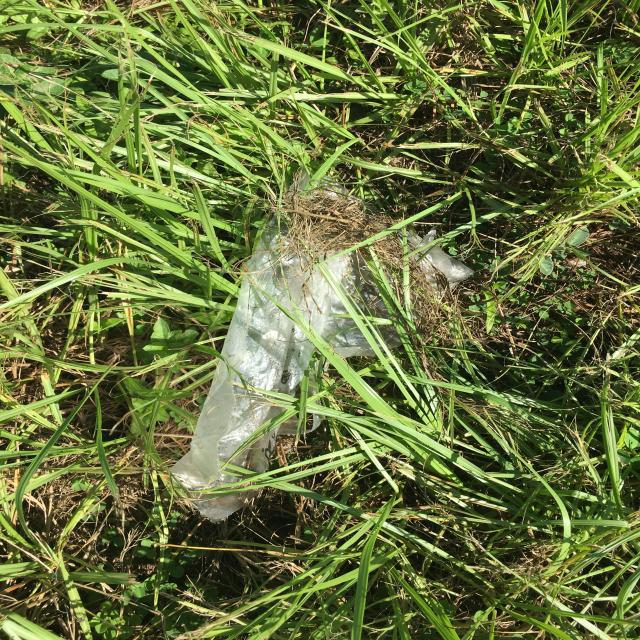litter: (200, 124, 640, 359)
